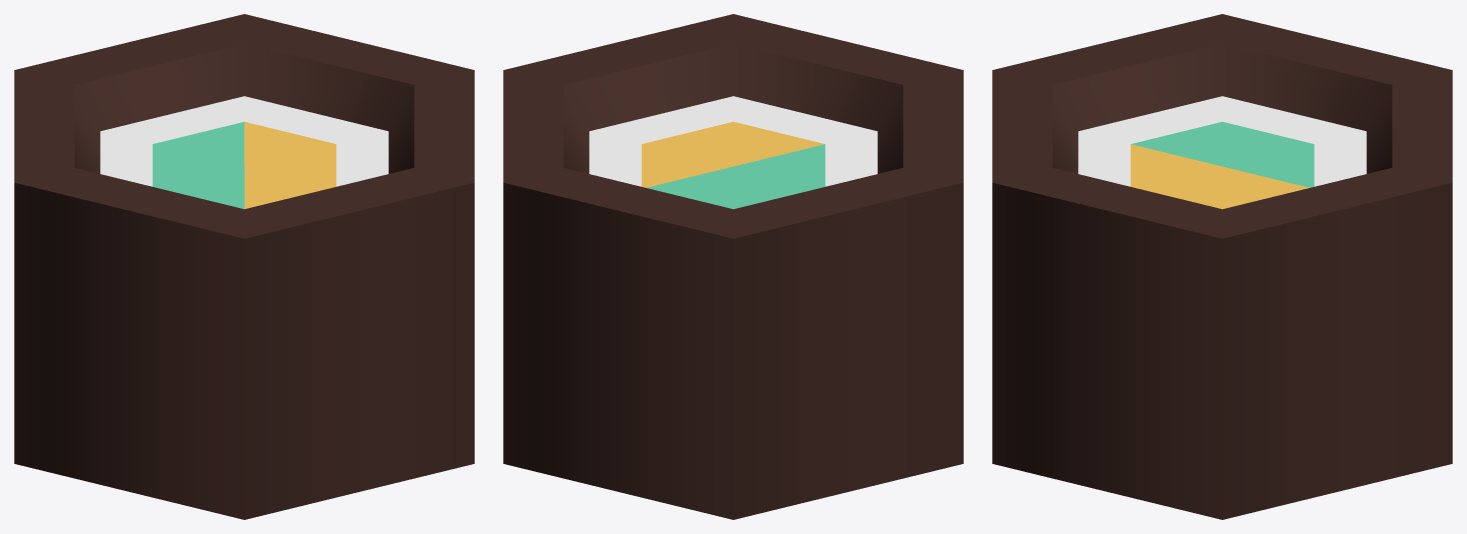
Rendered from makiVegetable.obj.
The picture shows the model from 3 angles, left to right: view 1: azimuth 30°, elevation 25°; view 2: azimuth 150°, elevation 25°; view 3: azimuth 270°, elevation 25°; orthographic projection.
Visible parts, largest first — view 1: makiVegetable; view 2: makiVegetable; view 3: makiVegetable.
Boxes of the visible parts, x1,y1,x2,y2 form: makiVegetable: (14,14,474,519); makiVegetable: (503,14,963,519); makiVegetable: (992,14,1452,519).
Size of the model in its own units: 0.12 by 0.07 by 0.1039.
